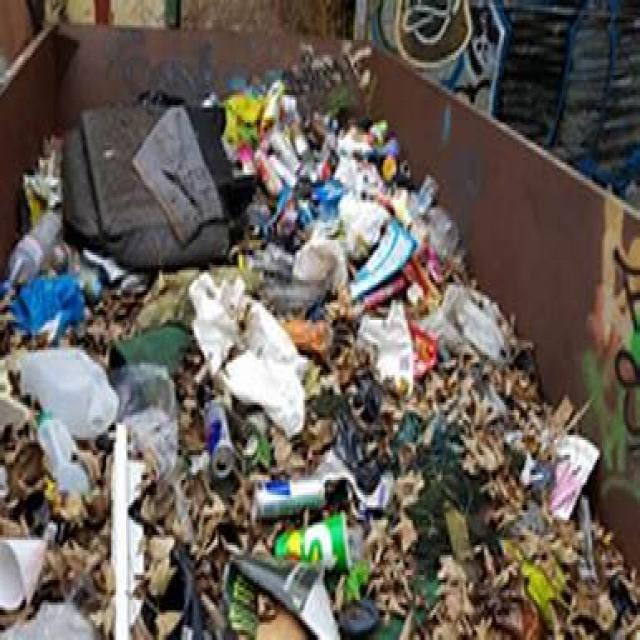Plastic_Bag: (11, 277, 84, 342)
Plastic_Container: (20, 349, 119, 438)
Plastic_Glass: (274, 513, 349, 568)
Plastic_bottle: (38, 418, 90, 495), (9, 211, 62, 284)
can: (254, 482, 325, 517), (205, 400, 235, 478)
